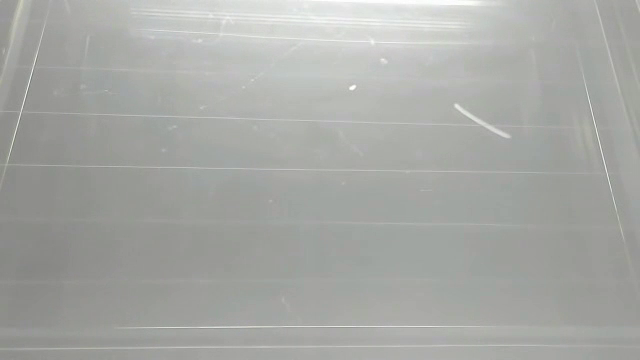alpha: (450, 101, 519, 144), (346, 80, 362, 95)
